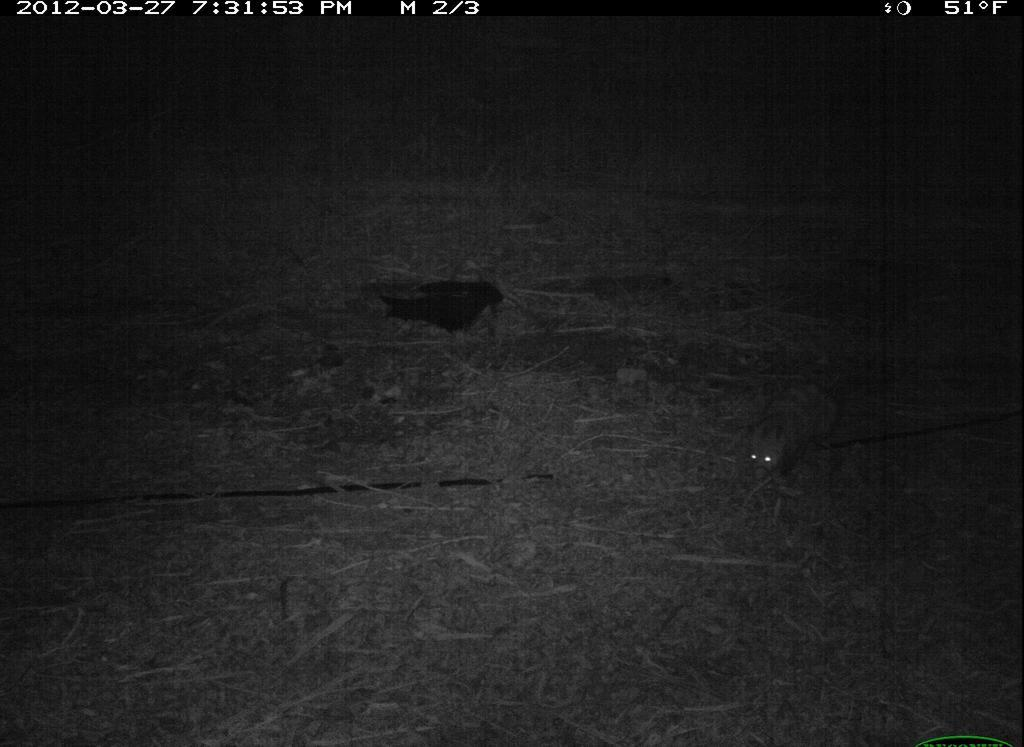opossum: (728, 367, 859, 505)
